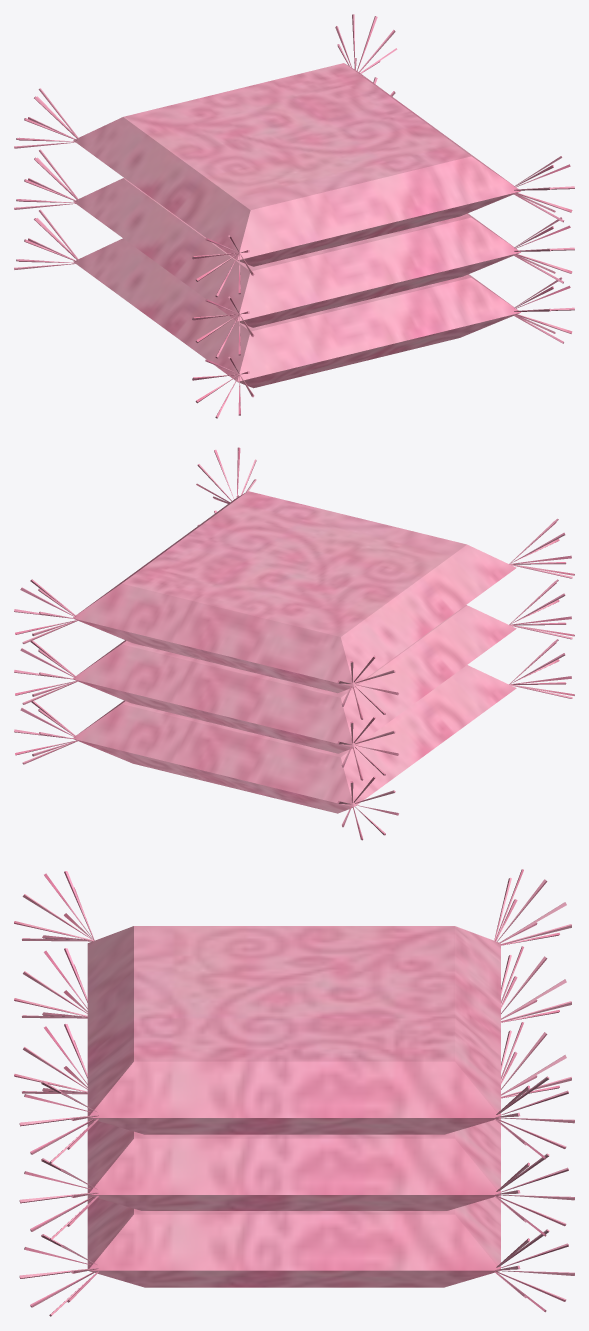
The model's file is pillow.dae.
3 renders of one model, top to bottom at view 1: azimuth 30°, elevation 25°; view 2: azimuth 150°, elevation 25°; view 3: azimuth 270°, elevation 25°, orthographic. The views are drawn at different scales.
Visible parts, largest first — view 1: Plane; view 2: Plane; view 3: Plane.
Part boxes in pixels (left/top/right/bottom): Plane: left=14, top=14, right=574, bottom=418; Plane: left=14, top=447, right=574, bottom=840; Plane: left=14, top=869, right=574, bottom=1316.
Bounding box in the file's own units: 0.1318 × 0.1324 × 0.0651.
Materials: 1 (1 with a texture image).
